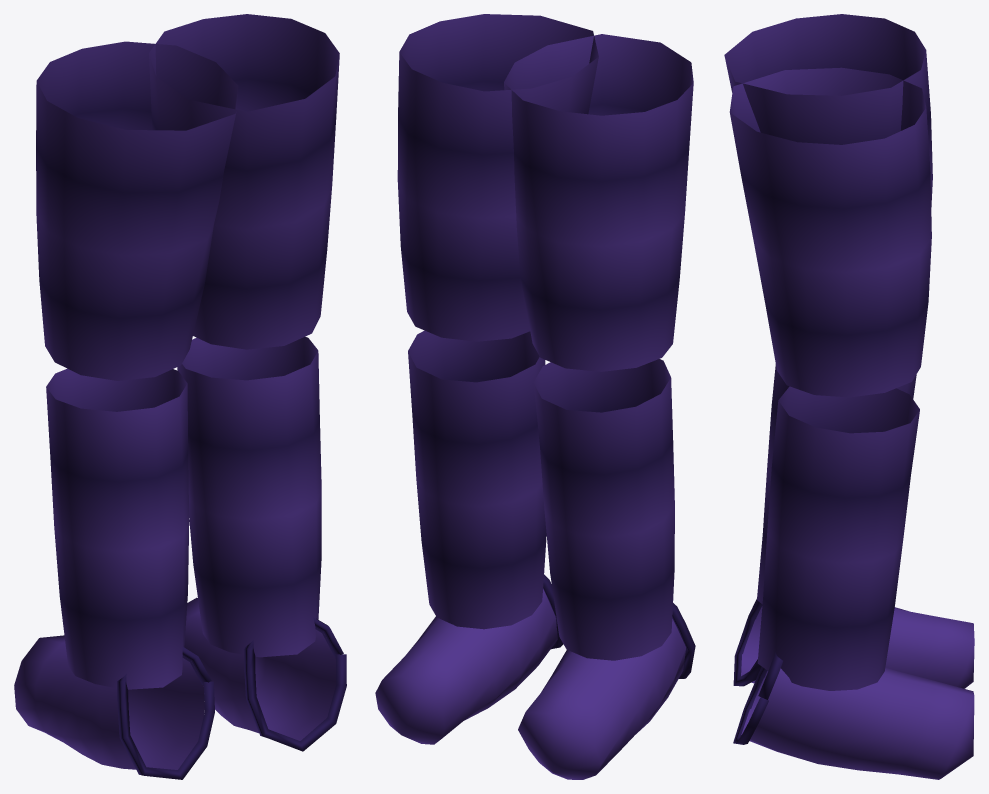
Rendered from beetle_leggings.glb.
The picture shows the model from 3 angles, left to right: view 1: azimuth 30°, elevation 25°; view 2: azimuth 150°, elevation 25°; view 3: azimuth 270°, elevation 25°; orthographic projection. The views are drawn at different scales.
Parts seen in each view (by area): view 1: beetle_leggings_cuisse.L; view 2: beetle_leggings_cuisse.L; view 3: beetle_leggings_cuisse.L.
Boxes of the visible parts, left/top/right/bottom form: beetle_leggings_cuisse.L: left=14, top=14, right=346, bottom=779; beetle_leggings_cuisse.L: left=375, top=14, right=695, bottom=779; beetle_leggings_cuisse.L: left=724, top=14, right=974, bottom=779.
Size of the model in its own units: 0.403 by 0.9485 by 0.3253.
